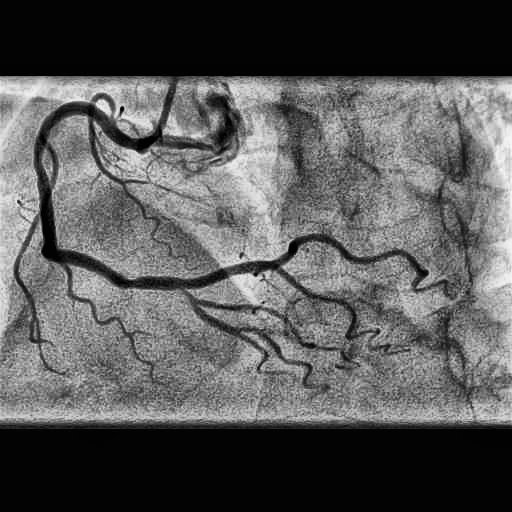pborca: (184, 234, 442, 292)
pda: (182, 289, 314, 388)
rca: (34, 102, 184, 290)
